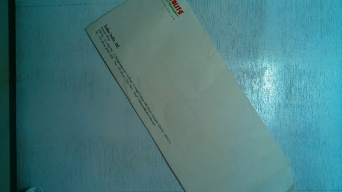l: (80, 2, 297, 192)
